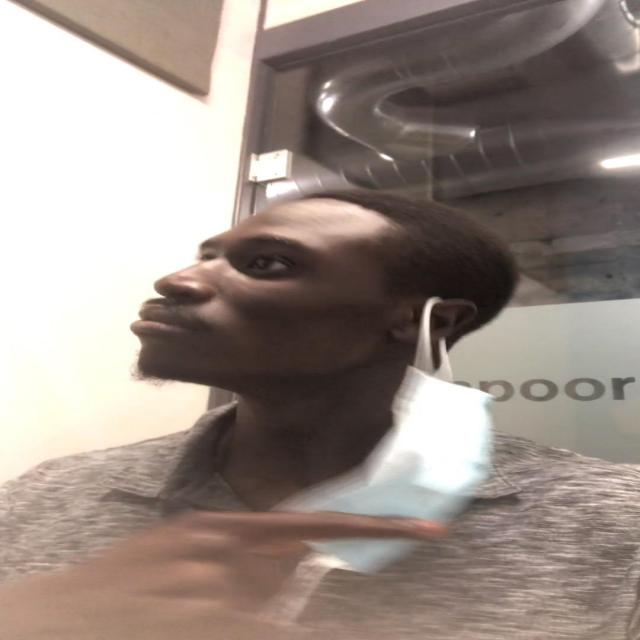face: (132, 210, 452, 379)
